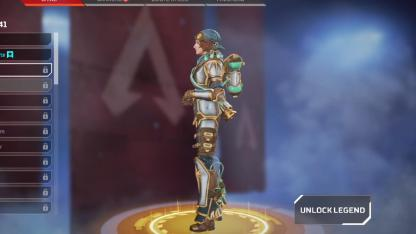Target: (181, 29, 243, 192)
